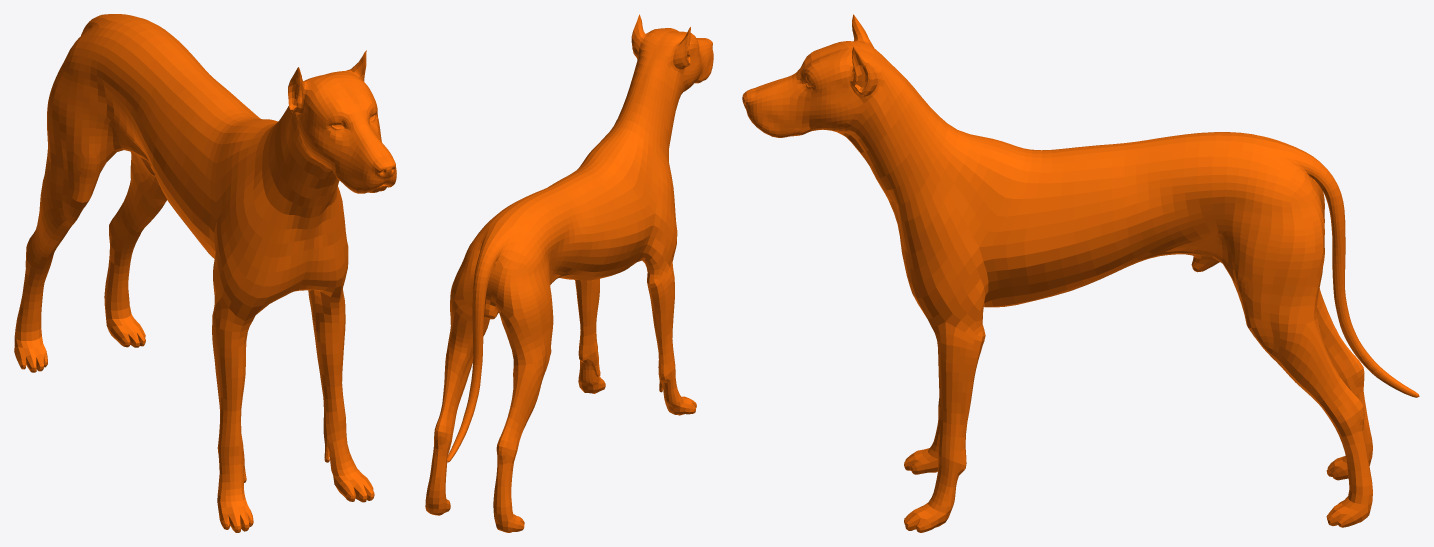
The model's file is Dog.fbx.
The picture shows the model from 3 angles, left to right: view 1: azimuth 30°, elevation 25°; view 2: azimuth 150°, elevation 25°; view 3: azimuth 270°, elevation 25°; orthographic projection. The views are drawn at different scales.
Parts seen in each view (by area): view 1: Dog_1:Group2; view 2: Dog_1:Group2; view 3: Dog_1:Group2.
Part boxes in pixels (x1=…): Dog_1:Group2: x1=14, y1=14, x2=396, y2=532; Dog_1:Group2: x1=425, y1=14, x2=713, y2=532; Dog_1:Group2: x1=742, y1=14, x2=1419, y2=532.
Size of the model in its own units: 1.76 by 5.38 by 7.04.
